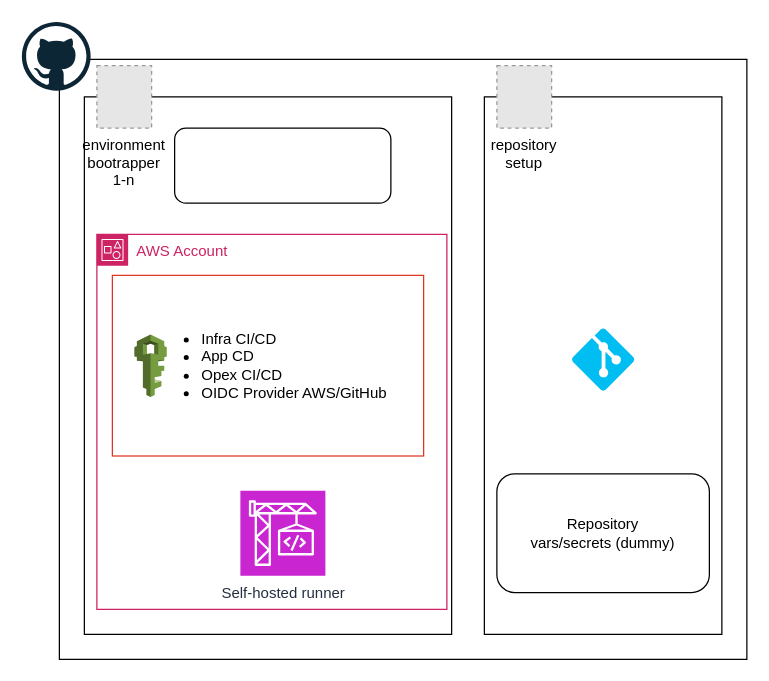
Image size: 769x681. Some labels were removed from this diagram. Grey dashed boxes stand in for pictures. The box of each missing label's shape, as (x1, y1, x2, y2) in pixels:
GitHub Environments: (173, 127, 391, 203)
IAM: (111, 274, 424, 456)
